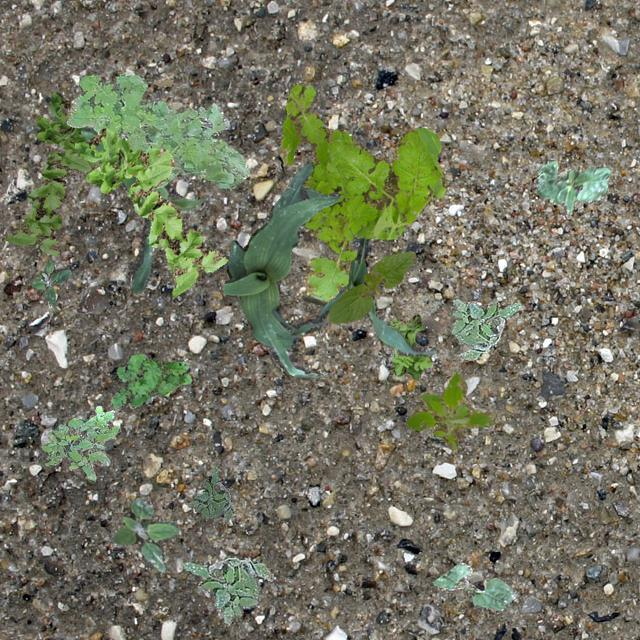crop: (222, 160, 340, 380), (78, 126, 206, 292), (314, 236, 434, 354), (326, 250, 414, 322), (534, 158, 608, 214), (432, 562, 516, 610)
weed: (278, 80, 444, 304), (74, 127, 226, 296), (65, 72, 248, 186), (5, 90, 99, 254), (404, 370, 494, 450), (182, 556, 272, 624), (41, 404, 118, 482), (109, 496, 178, 570), (110, 352, 190, 412), (450, 297, 520, 358), (388, 314, 430, 378), (186, 466, 232, 522), (30, 258, 70, 306)
